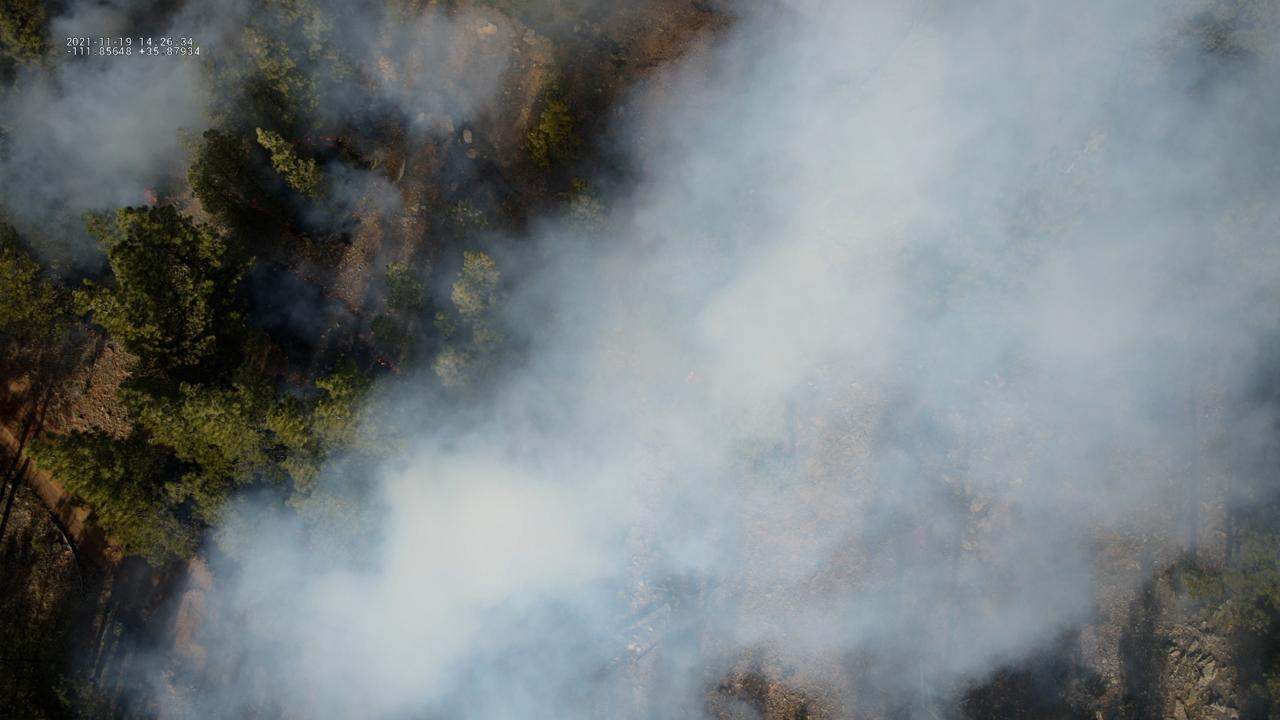fire: (140, 185, 158, 206), (318, 134, 338, 142), (249, 199, 259, 210)
smoke: (0, 0, 1280, 720)
